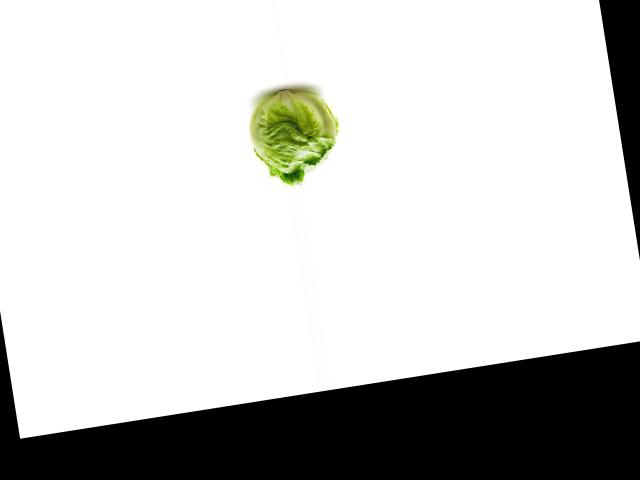lettuce: (240, 77, 354, 191)
